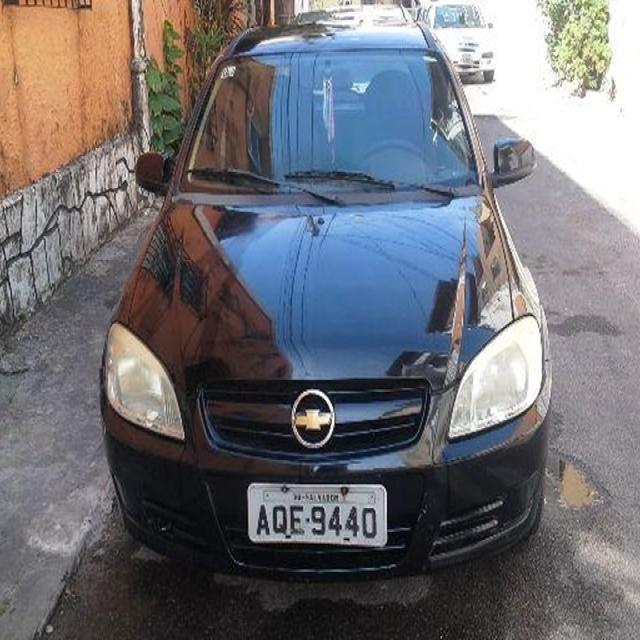Placa: (247, 477, 389, 548)
